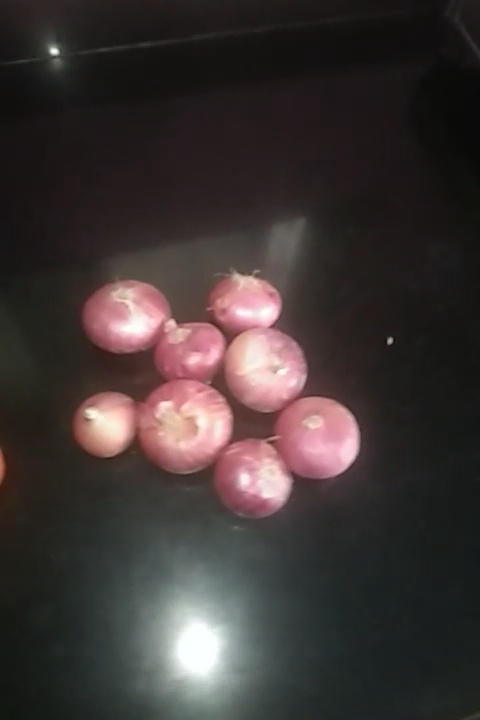onion: (146, 381, 234, 471), (82, 277, 171, 354), (218, 334, 302, 413), (279, 400, 356, 483), (210, 265, 289, 343), (153, 317, 230, 388), (214, 432, 282, 505), (79, 393, 138, 459)
